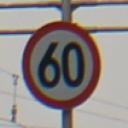speed_limit_60: (22, 20, 102, 110)
